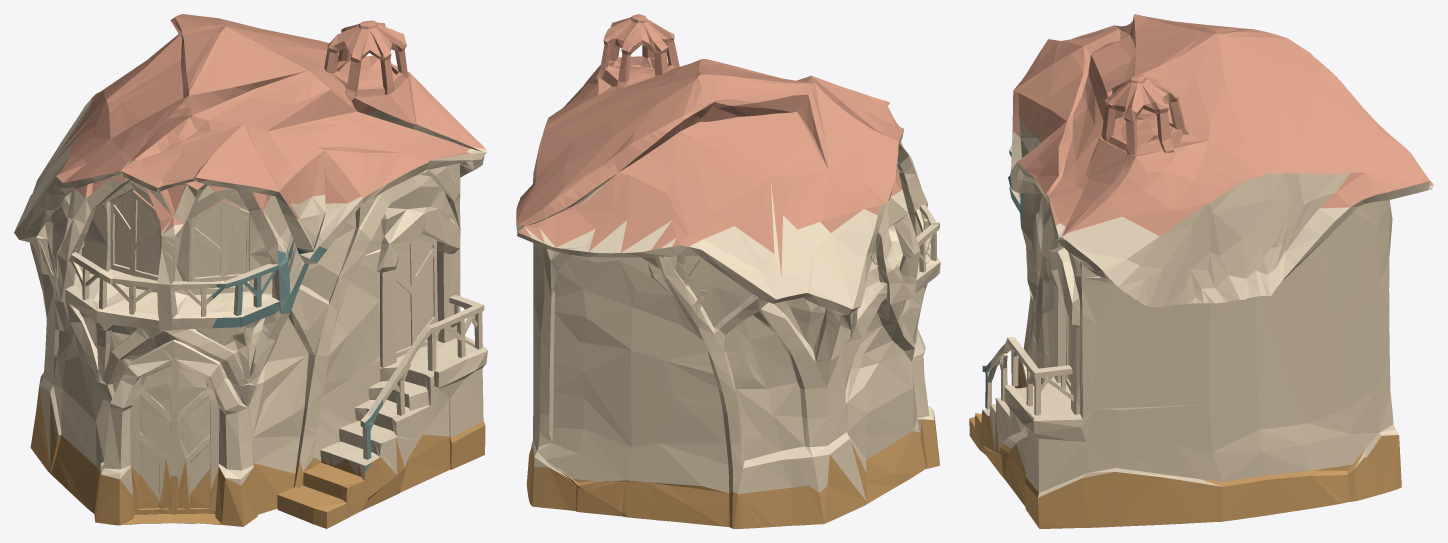
File: maison_angle.glb
3 renders of one model, left to right at view 1: azimuth 30°, elevation 25°; view 2: azimuth 150°, elevation 25°; view 3: azimuth 270°, elevation 25°, orthographic. The views are drawn at different scales.
Parts seen in each view (by area): view 1: Maison angle; view 2: Maison angle; view 3: Maison angle.
Part boxes in pixels (left/top/right/bottom): Maison angle: left=14, top=14, right=487, bottom=528; Maison angle: left=516, top=14, right=940, bottom=528; Maison angle: left=969, top=14, right=1433, bottom=528.
Bounding box in the file's own units: 1 × 1 × 1.
